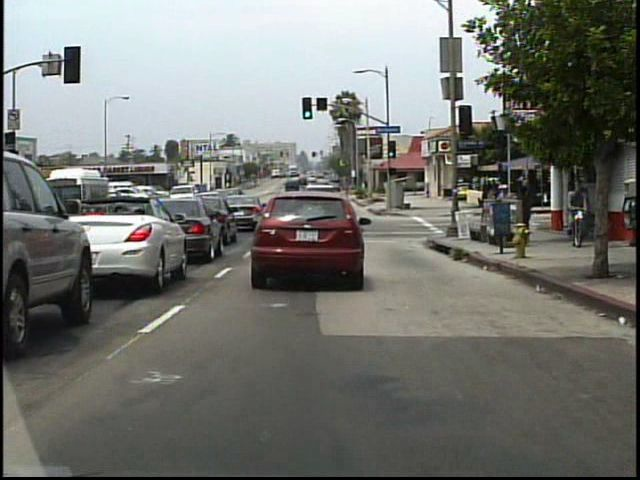person: (517, 176, 536, 239), (497, 180, 518, 235), (572, 182, 591, 236), (597, 188, 612, 244), (579, 183, 580, 238)
